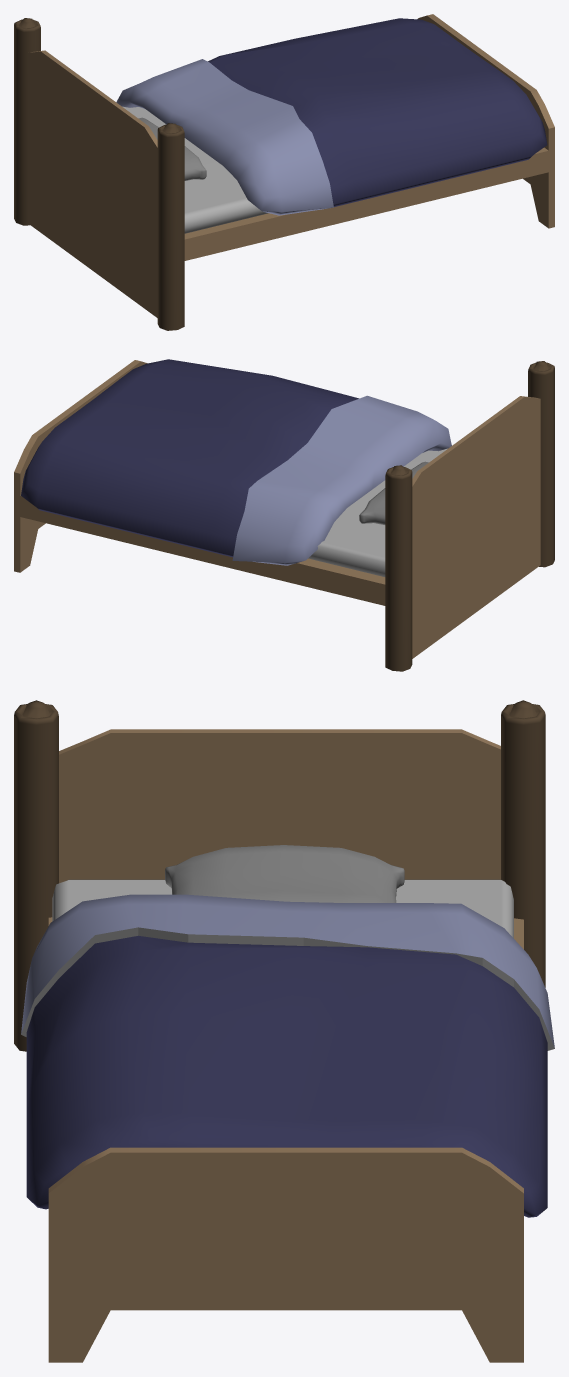
Rendered from Bed.fbx.
3 views of the same model, one above another, from view 1: azimuth 30°, elevation 25°; view 2: azimuth 150°, elevation 25°; view 3: azimuth 270°, elevation 25° (orthographic). The views are drawn at different scales.
Parts seen in each view (by area): view 1: pCube8; view 2: pCube8; view 3: pCube8.
Part boxes in pixels (bbox=[...]): pCube8: bbox=[14, 14, 554, 330]; pCube8: bbox=[14, 359, 554, 671]; pCube8: bbox=[14, 700, 554, 1362].
Bounding box in the file's own units: 26.72 × 12.92 × 18.51.
